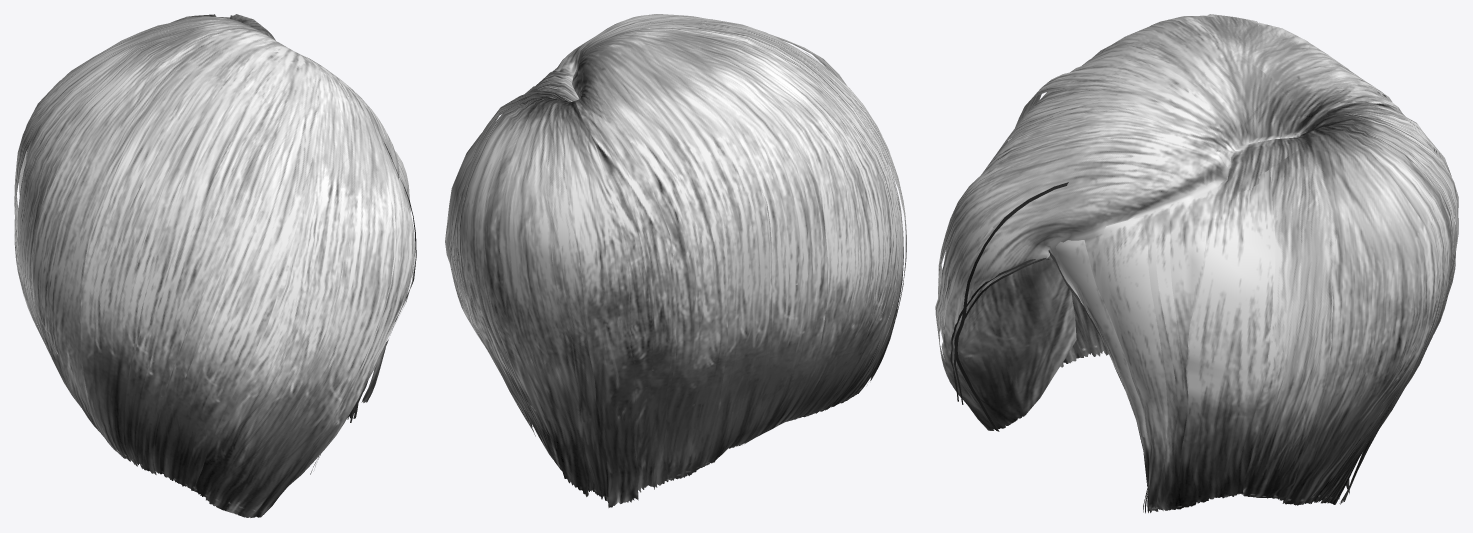
The model's file is bob.glb.
3 views of the same model, side by side, from view 1: azimuth 30°, elevation 25°; view 2: azimuth 150°, elevation 25°; view 3: azimuth 270°, elevation 25° (orthographic). The views are drawn at different scales.
Parts seen in each view (by area): view 1: Hair; view 2: Hair; view 3: Hair.
Part boxes in pixels (bbox=[...]): Hair: bbox=[14, 14, 416, 517]; Hair: bbox=[445, 14, 906, 507]; Hair: bbox=[935, 14, 1458, 513].
Bounding box in the file's own units: 0.2217 × 0.247 × 0.2528.
Materials: 1 (1 with a texture image).
